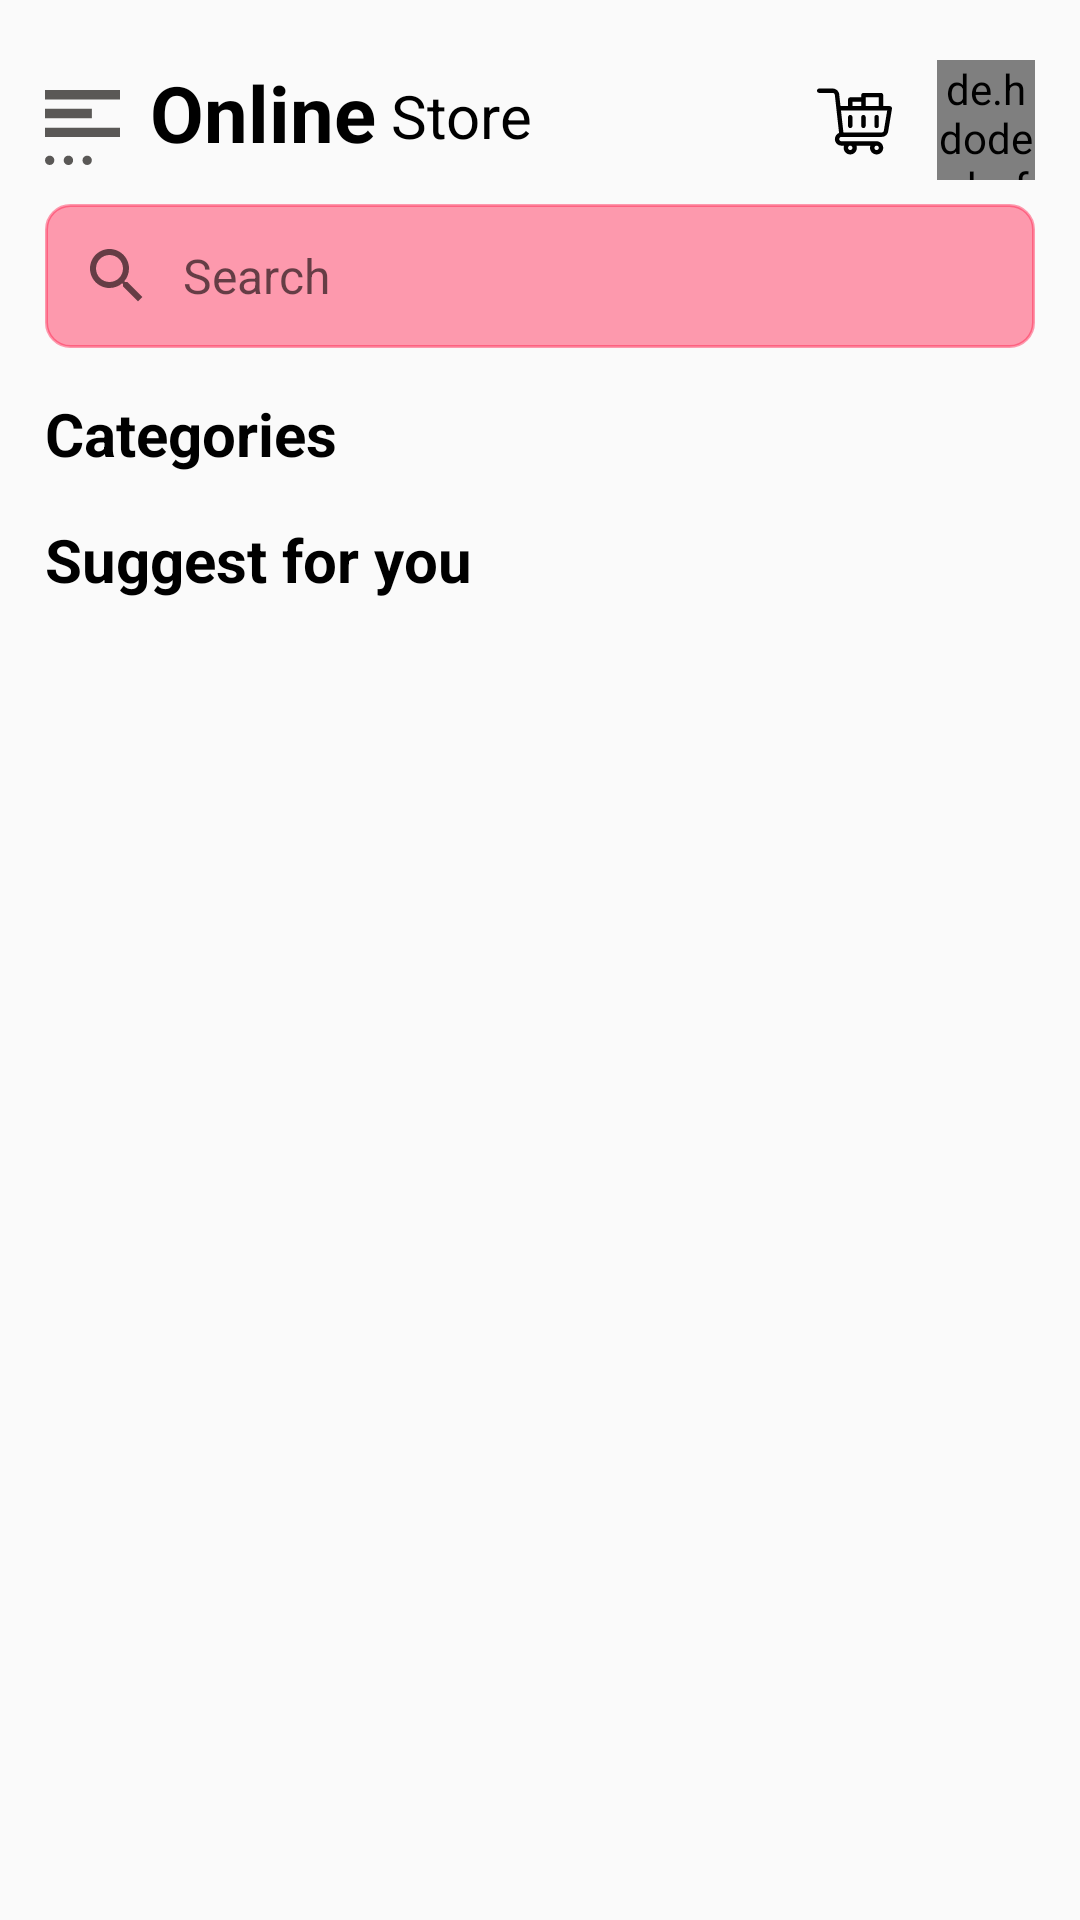

Icon click points for this 1080x1920 phone screenshot, format (x=x, y=y):
cart: (x=854, y=121)
more: (x=82, y=127)
